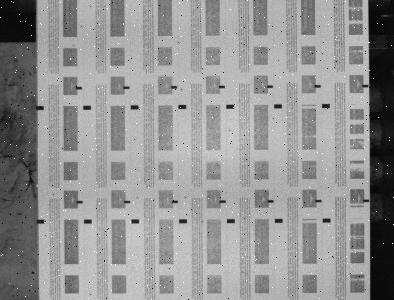backgroundclutter: (31, 271, 35, 274)
qblock: (226, 104, 235, 109), (37, 219, 45, 224), (84, 219, 92, 224), (83, 105, 91, 110), (130, 105, 139, 109), (178, 105, 187, 109), (179, 219, 188, 223), (36, 106, 44, 110), (131, 219, 139, 223), (275, 219, 283, 223), (323, 218, 331, 222), (274, 104, 282, 108), (227, 219, 235, 223), (322, 104, 330, 108)
smallqblock: (76, 86, 82, 90), (124, 200, 131, 203), (172, 200, 179, 203), (220, 200, 227, 203), (315, 199, 322, 202), (219, 85, 226, 88), (123, 86, 130, 89), (171, 86, 178, 89), (77, 200, 83, 203), (268, 200, 274, 203), (363, 84, 369, 87), (267, 85, 273, 88), (364, 199, 370, 202), (315, 85, 321, 88)
